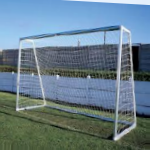goals: (15, 23, 139, 140)
